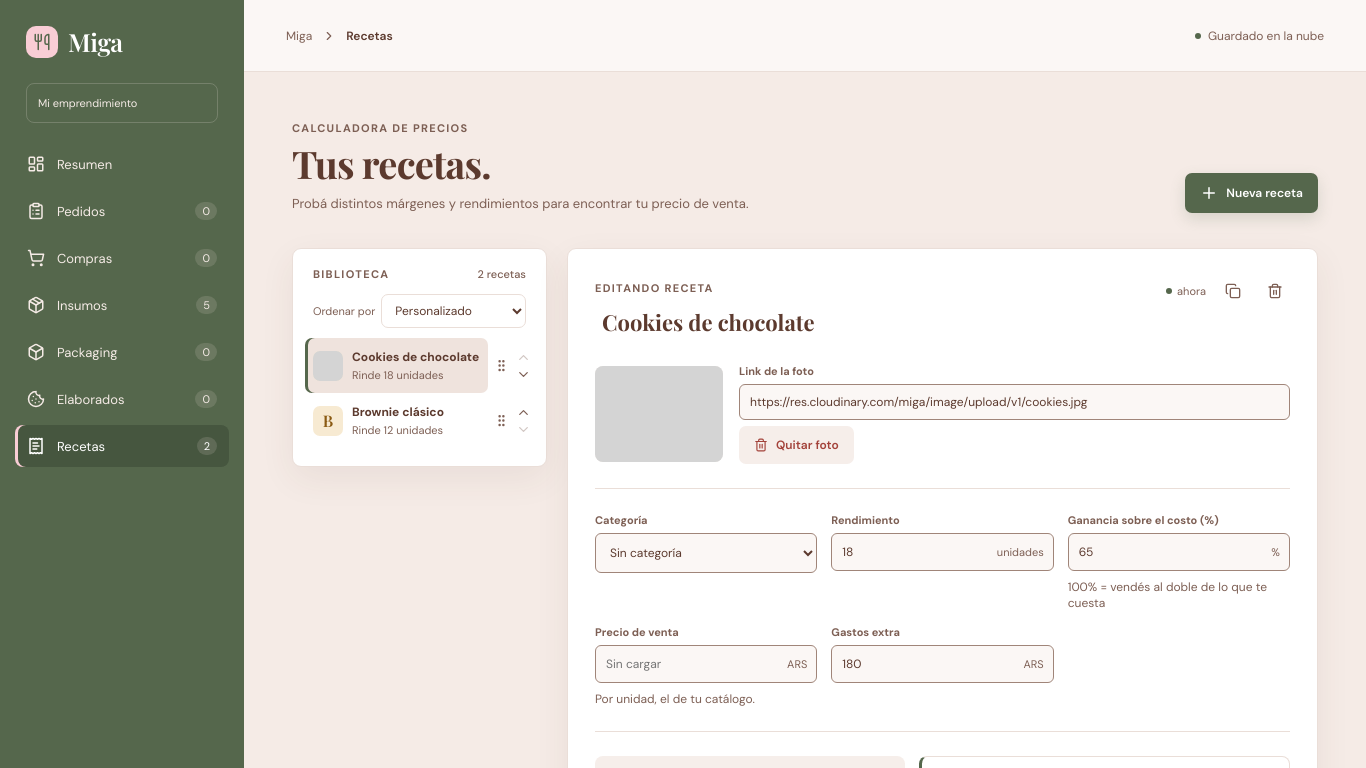
Recipe photo by URL › removes the photo
Click the button "Quitar foto".
click(796, 445)  # box [739, 426, 854, 464]
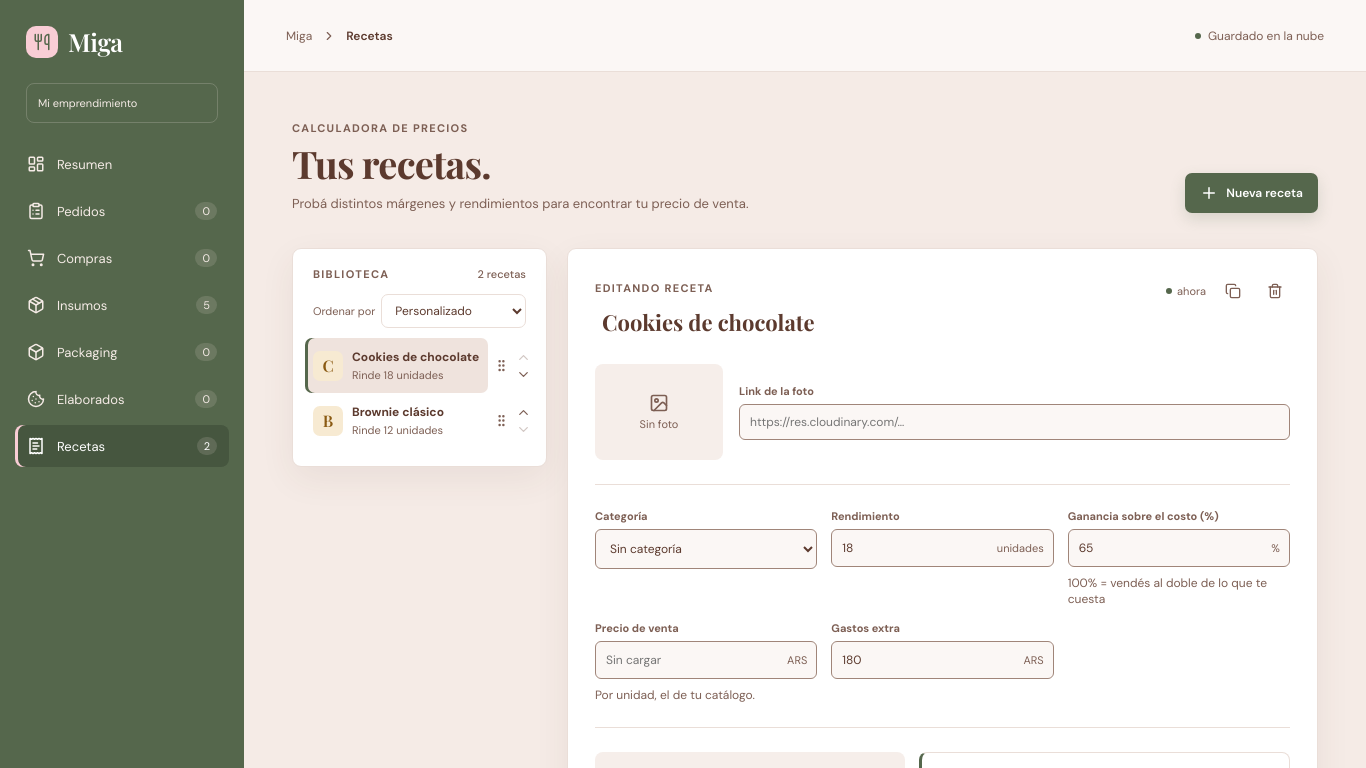
Check: the picture is gone
